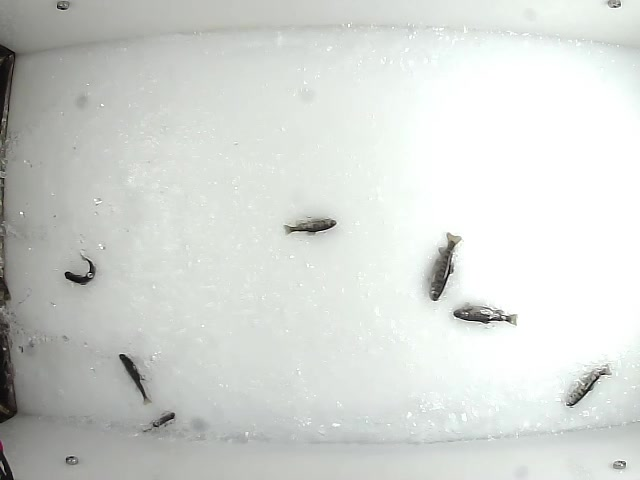fish: (428, 230, 464, 302), (561, 363, 613, 407), (116, 351, 150, 404), (449, 304, 519, 328), (62, 249, 97, 286), (281, 215, 338, 236), (144, 409, 177, 433)
